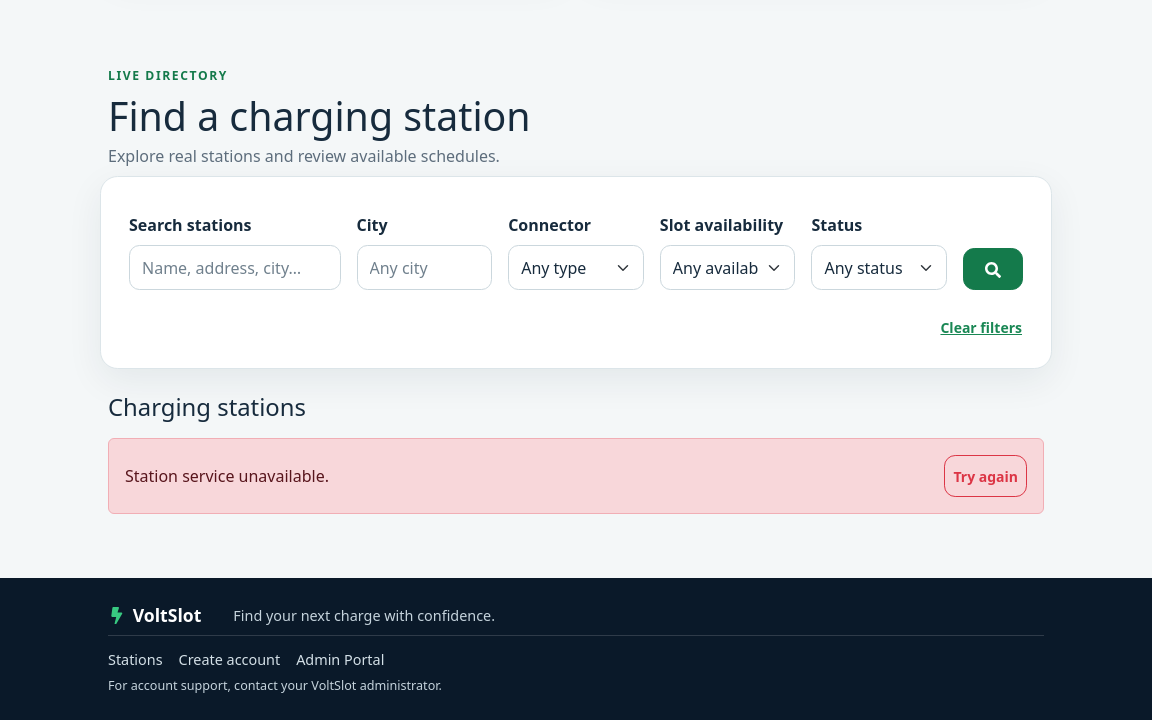
Test: VoltSlot station frontend › shows retry after a station list request fails
(page scrolled)
Expected: the text "Station service unavailable." is shown, left=125, top=464, right=329, bottom=488
Click the button "Try again" at (986, 476), box left=944, top=455, right=1027, bottom=497
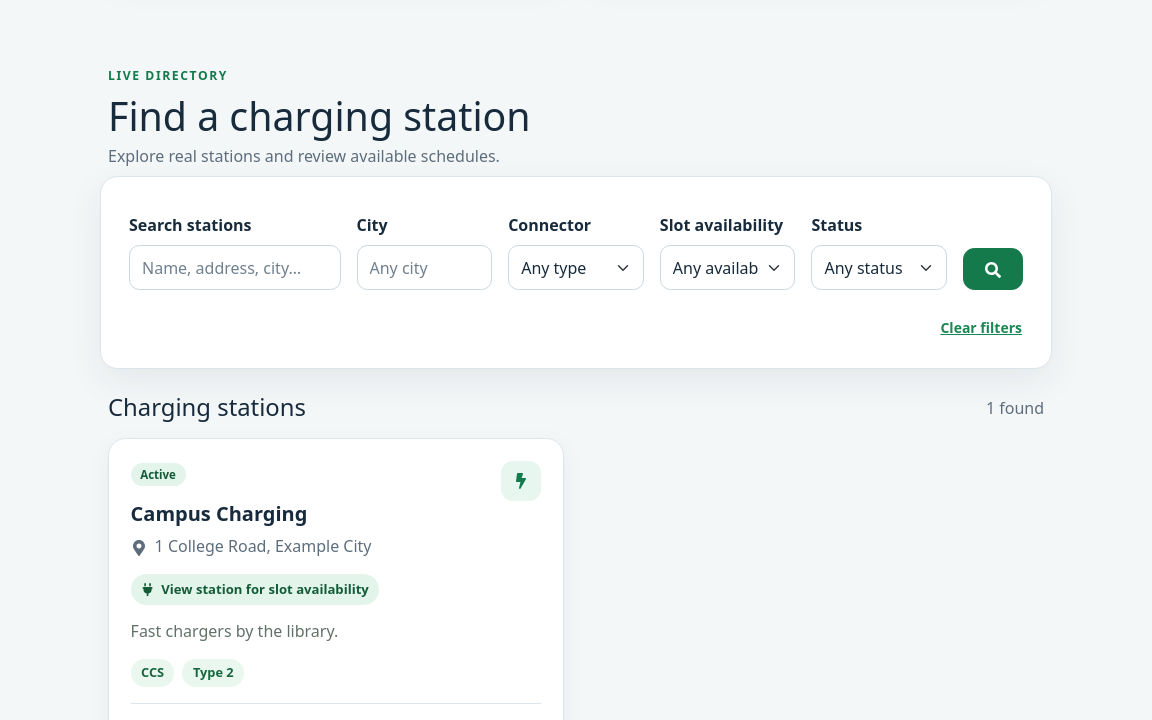
Now the heading "Campus Charging" is shown, box left=131, top=502, right=307, bottom=526
